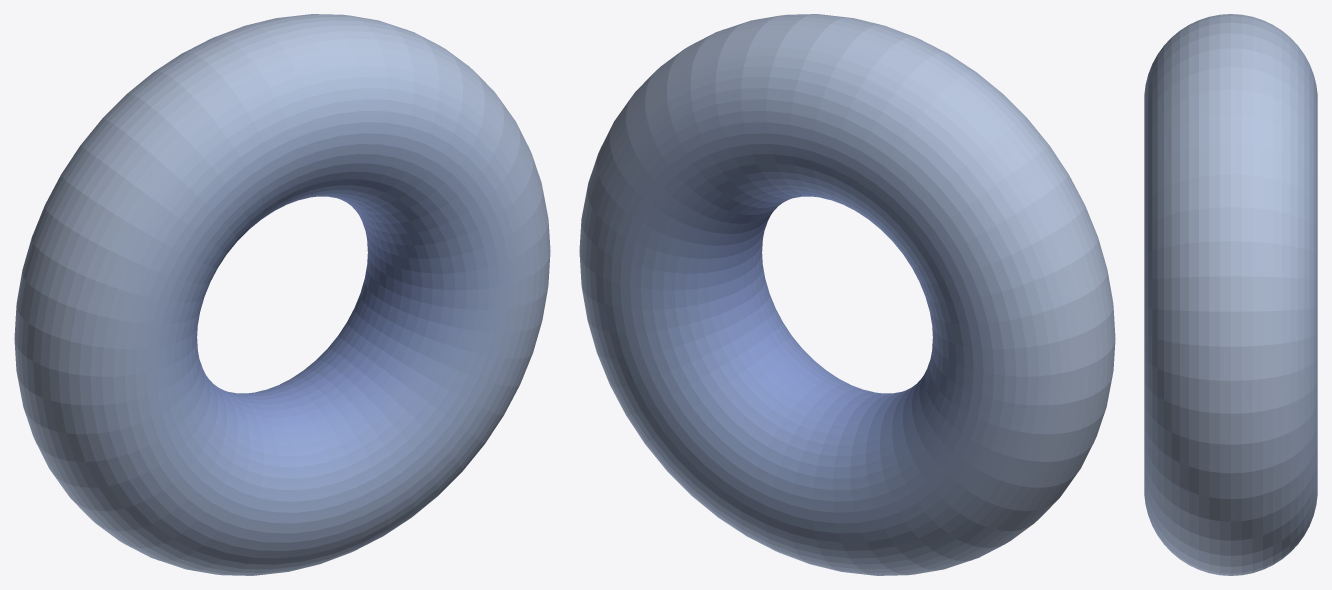
The picture shows the model from 3 angles, left to right: view 1: azimuth 30°, elevation 25°; view 2: azimuth 150°, elevation 25°; view 3: azimuth 270°, elevation 25°; orthographic projection. The views are drawn at different scales.
Visible parts, largest first — view 1: world; view 2: world; view 3: world.
Boxes of the visible parts, <box> form: world: <box>14,14,550,575</box>; world: <box>579,14,1115,575</box>; world: <box>1144,14,1317,575</box>.
Bounding box in the file's own units: 20.27 × 20.23 × 6.25.
